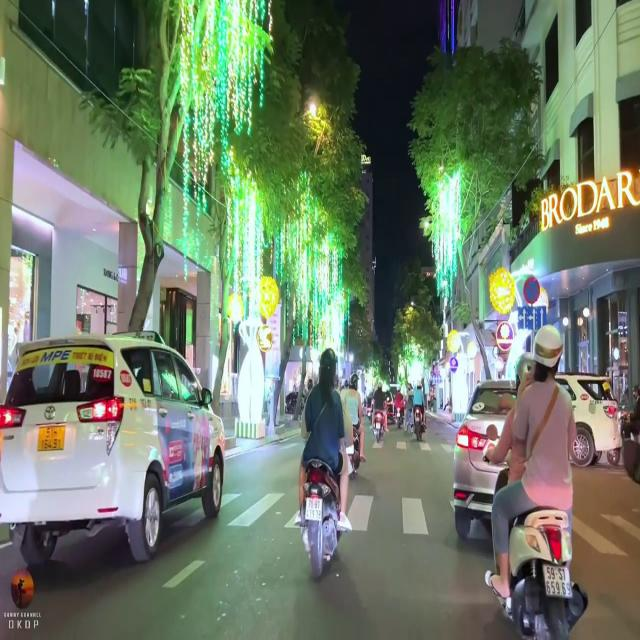bien_trang: (538, 555, 578, 601), (304, 497, 324, 524)
bien_vang: (39, 422, 70, 452)
